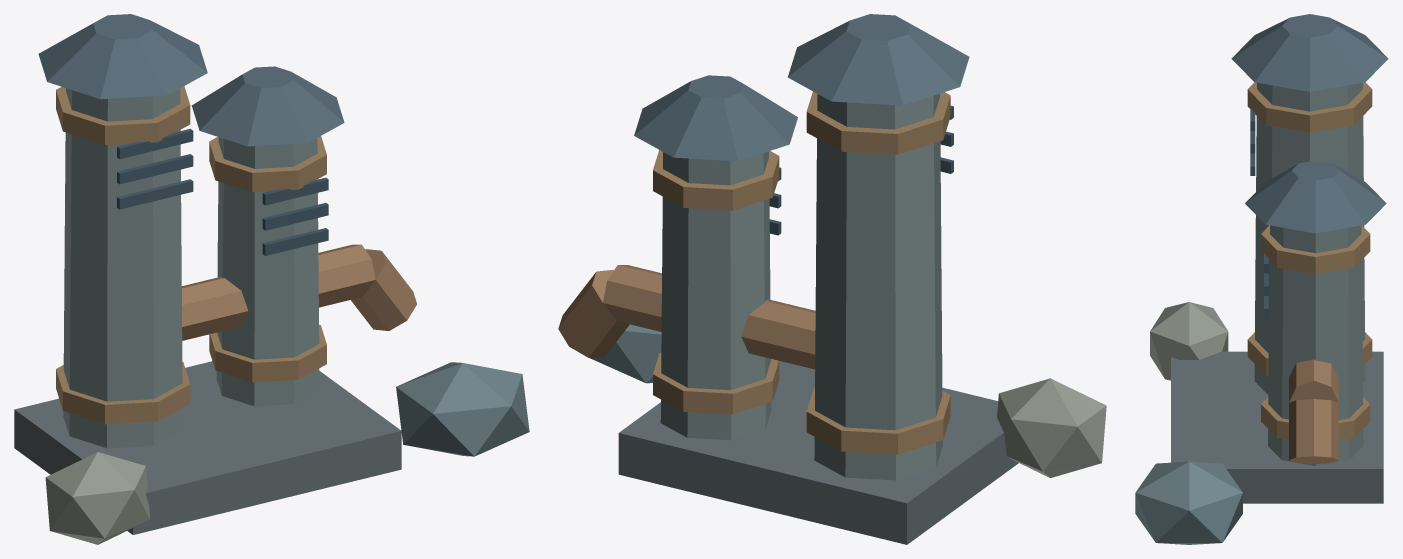
File: xingyin-environment-v2__iron_vent_stack.glb
The picture shows the model from 3 angles, left to right: view 1: azimuth 30°, elevation 25°; view 2: azimuth 150°, elevation 25°; view 3: azimuth 270°, elevation 25°; orthographic projection. The views are drawn at different scales.
Parts seen in each view (by area): view 1: iron_vent_stack; view 2: iron_vent_stack; view 3: iron_vent_stack.
Part boxes in pixels (left/top/right/bottom): iron_vent_stack: left=14, top=14, right=529, bottom=544; iron_vent_stack: left=558, top=14, right=1106, bottom=544; iron_vent_stack: left=1135, top=14, right=1388, bottom=544.
Size of the model in its own units: 2.55 by 2.3 by 1.32.
